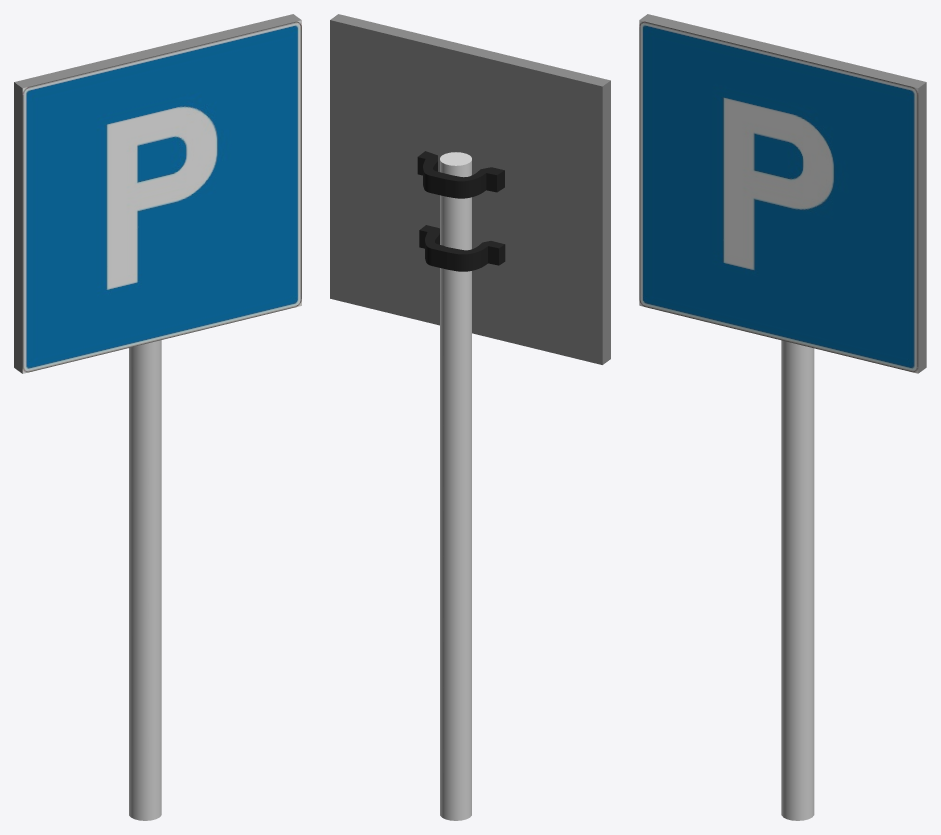
Rendered from Traffic 10.fbx.
The picture shows the model from 3 angles, left to right: view 1: azimuth 30°, elevation 25°; view 2: azimuth 150°, elevation 25°; view 3: azimuth 330°, elevation 25°; orthographic projection. The views are drawn at different scales.
Parts seen in each view (by area): view 1: Box001, sipka; view 2: Box001, sipka, s, Line006; view 3: Box001, sipka.
Boxes of the visible parts, box(x1,y1,x2,y2) form: Box001: box(14, 14, 301, 373); sipka: box(129, 340, 161, 820); Box001: box(330, 14, 610, 364); sipka: box(440, 152, 471, 820); s: box(417, 151, 504, 198); Line006: box(419, 225, 505, 271); Box001: box(639, 14, 926, 373); sipka: box(781, 340, 814, 820).
Size of the model in its own units: 25.52 by 67.51 by 5.38.
8 materials, 1 textured.
